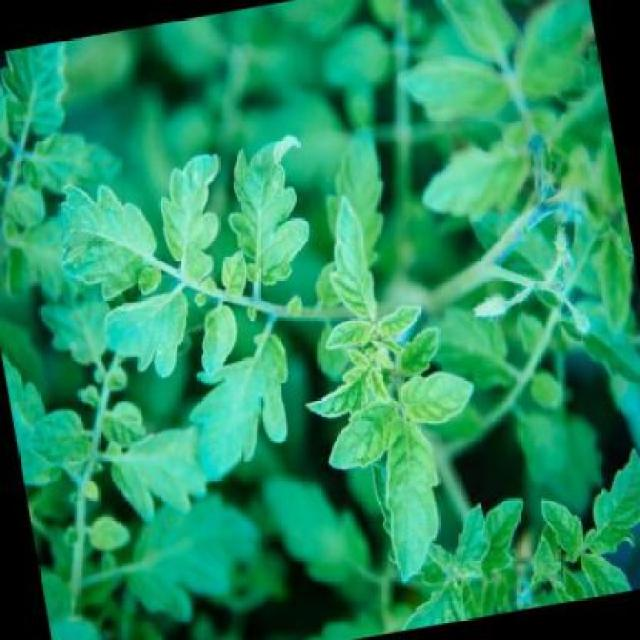Healthy Leaf: (178, 317, 310, 486), (213, 121, 324, 302), (46, 169, 166, 309), (370, 383, 452, 565), (152, 130, 234, 296), (90, 278, 202, 389), (438, 480, 537, 591), (319, 192, 386, 332), (312, 396, 416, 482), (570, 432, 638, 563), (397, 363, 480, 429), (536, 478, 596, 568)
